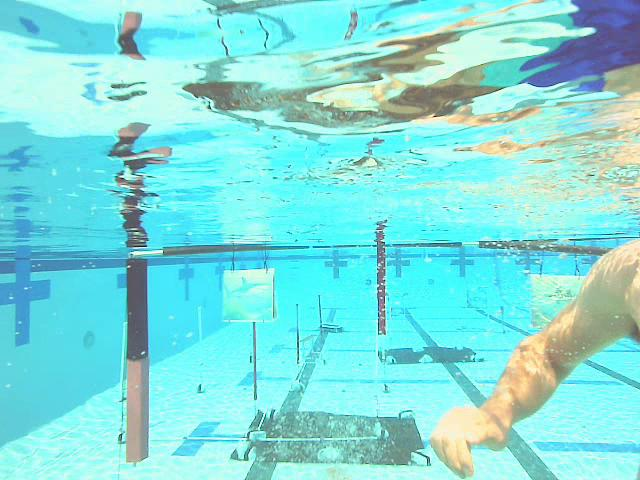black_poster: (252, 321, 260, 399), (295, 304, 303, 365), (317, 295, 325, 341)
divider: (378, 243, 386, 333)
left_gate_poster: (126, 260, 151, 461)
shark: (221, 271, 274, 320)
swordfish: (534, 275, 589, 331)
white_poster: (120, 322, 128, 401), (196, 308, 203, 368)
